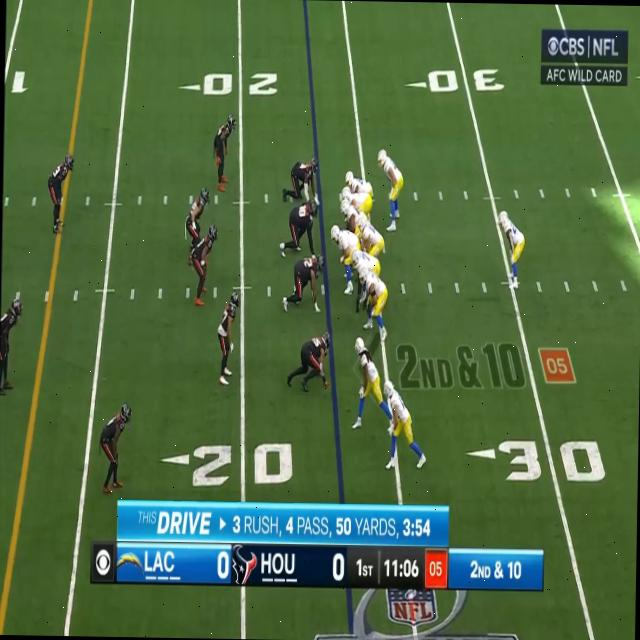Player: (98, 404, 132, 494), (382, 379, 416, 464), (188, 220, 218, 308), (292, 331, 332, 392), (216, 287, 240, 386), (376, 147, 404, 231), (354, 338, 380, 424), (498, 209, 526, 288), (48, 152, 76, 230), (358, 266, 388, 337), (0, 294, 21, 395), (211, 112, 235, 192), (282, 198, 316, 253), (292, 252, 324, 310), (330, 225, 356, 292), (285, 156, 317, 202), (357, 212, 385, 256), (188, 185, 208, 230), (345, 168, 374, 195), (342, 186, 374, 210), (352, 247, 382, 271), (339, 198, 358, 231)
